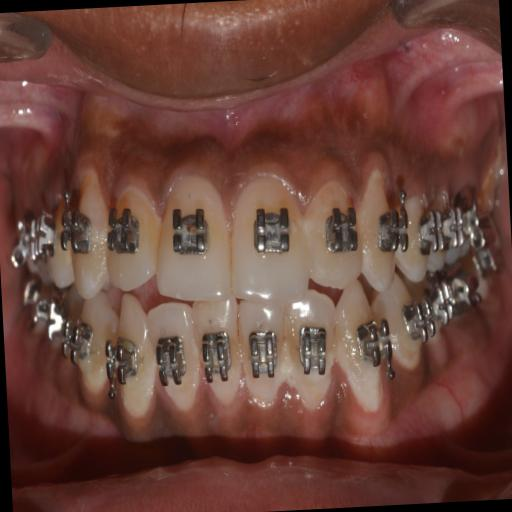correct_brace: (164, 201, 212, 261), (248, 200, 294, 262), (294, 318, 336, 384), (102, 200, 141, 262), (150, 332, 189, 392), (200, 324, 236, 388), (325, 201, 360, 261), (246, 326, 280, 380)
incorrect_brace: (302, 168, 368, 292), (142, 298, 202, 422), (280, 290, 344, 404), (100, 172, 158, 296)
